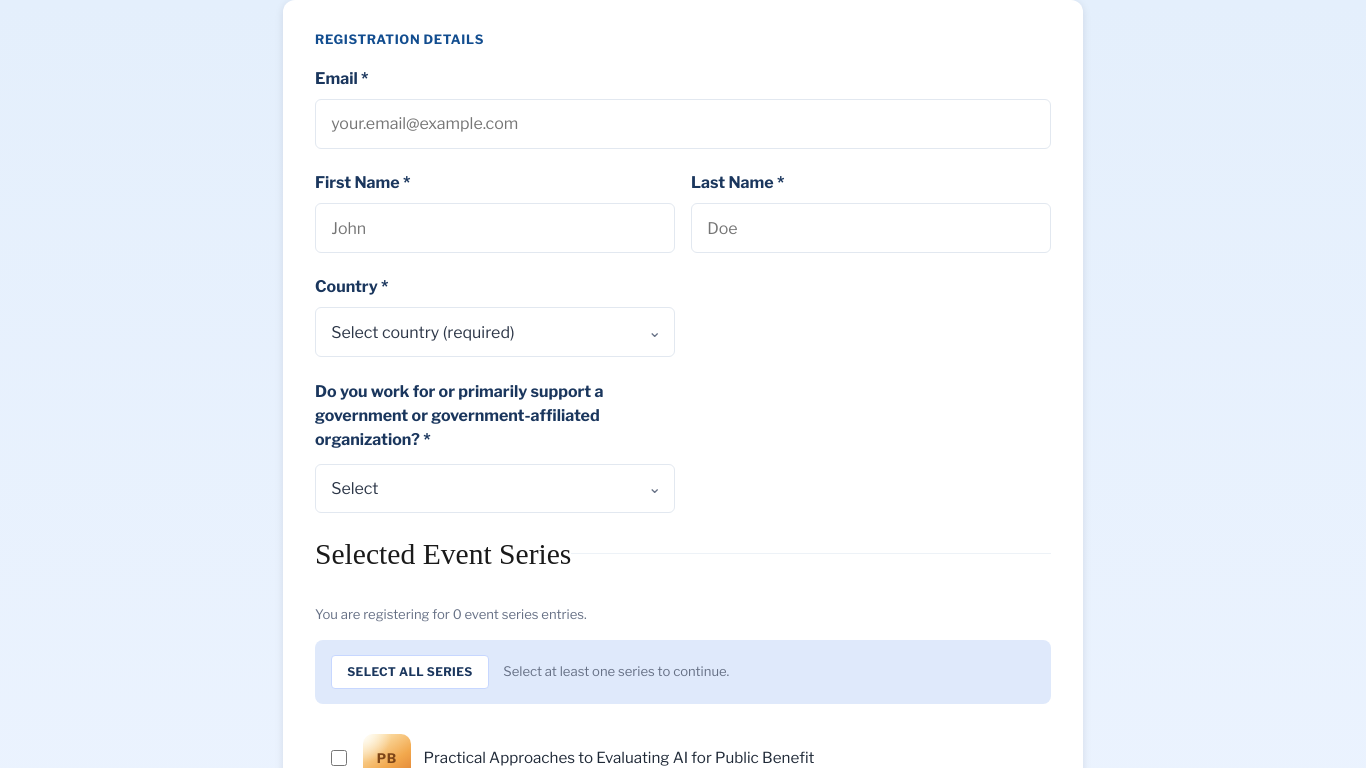
RegistrationForm › prevents submission when no workshop series is selected
This screenshot has width=1366, height=768.
In the field with id "email": [683, 124] box [315,99,1051,149], type "ada@example.com"
In the field with id "first_name": [495, 228] box [315,203,675,253], type "Ada"
In the field with id "last_name": [871, 228] box [691,203,1051,253], type "Lovelace"
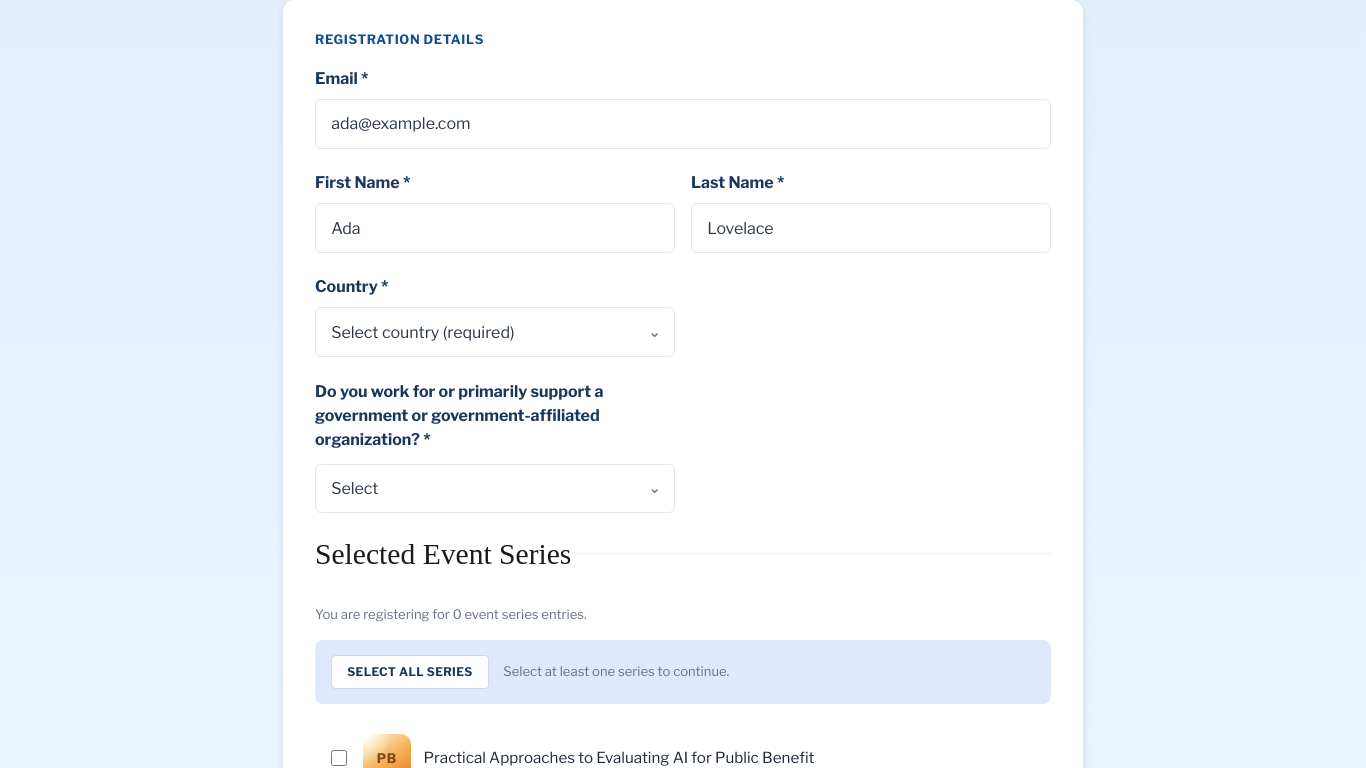
Select "United States" in the dropdown with id "country": [495, 332] box [315,307,675,357]
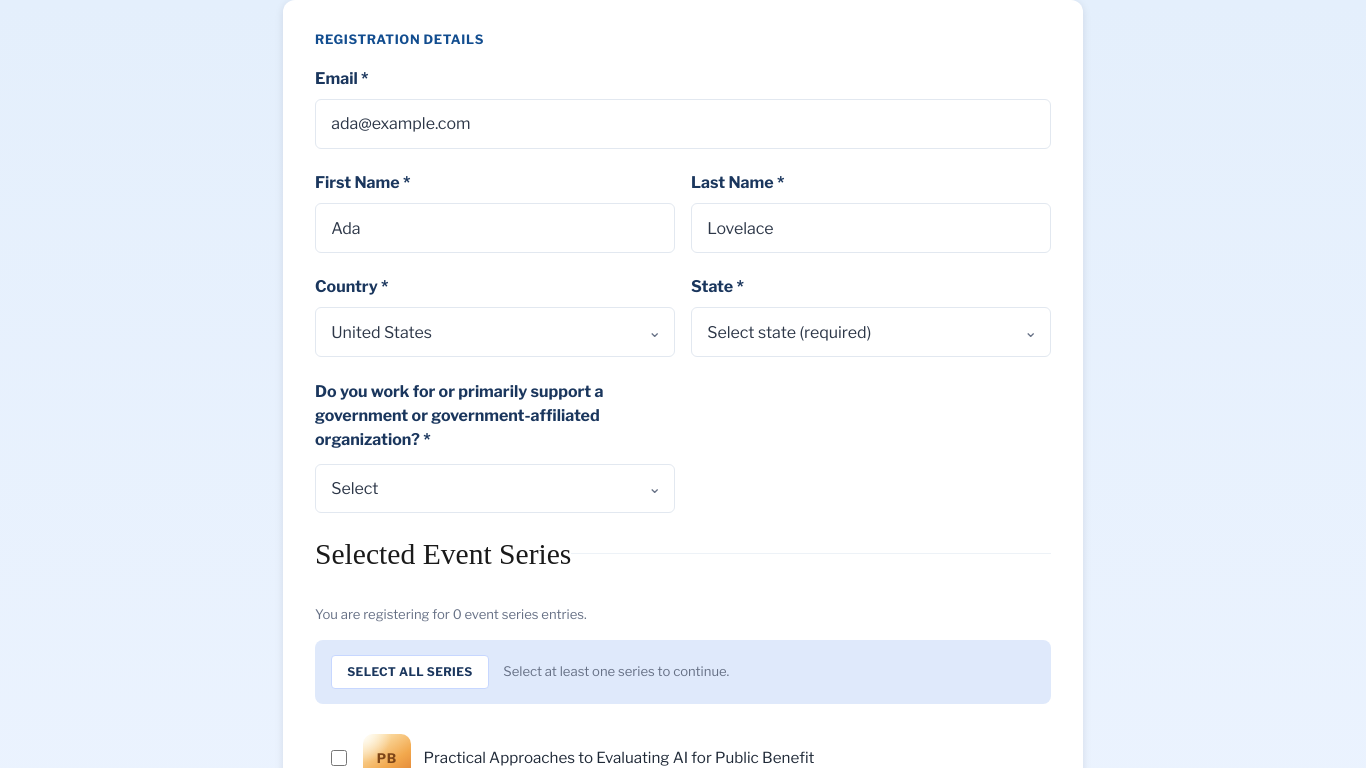
Select "IL" in the dropdown with id "state": [871, 332] box [691,307,1051,357]
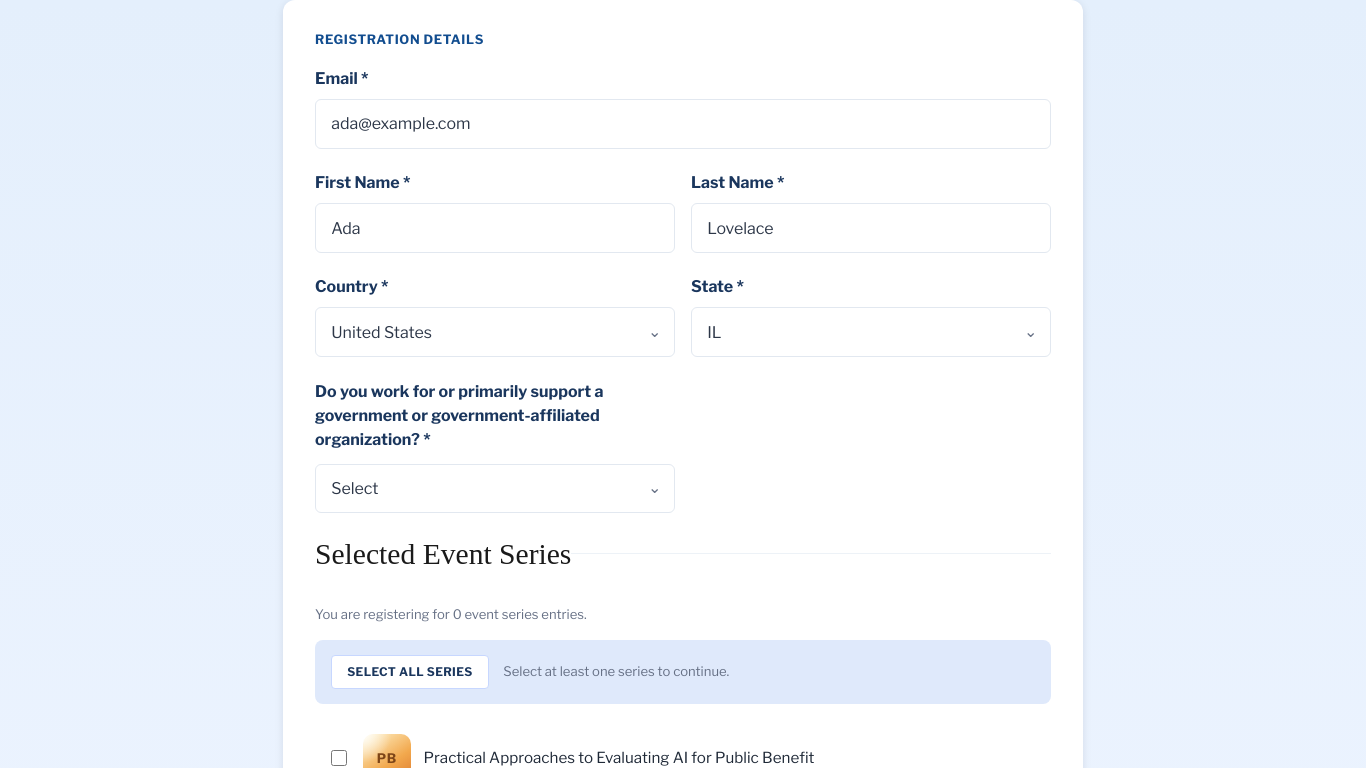
Select "Yes, I'm an employee of a government agency" in the dropdown with id "gov_org": [495, 488] box [315,464,675,513]
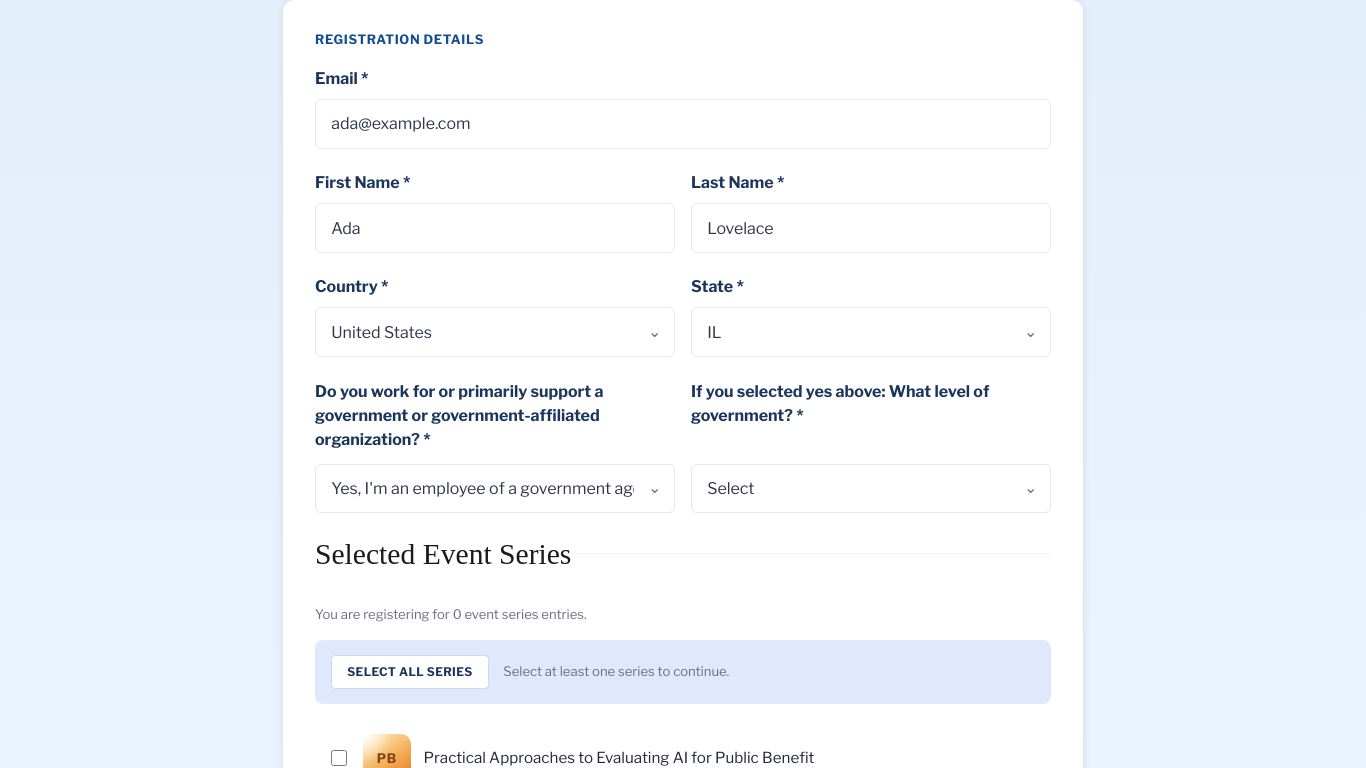
Select "International or Intergovernmental Organization (e.g. UN, OECD, EU)" in the dropdown with id "gov_level": [871, 488] box [691,464,1051,513]
(page scrolled)
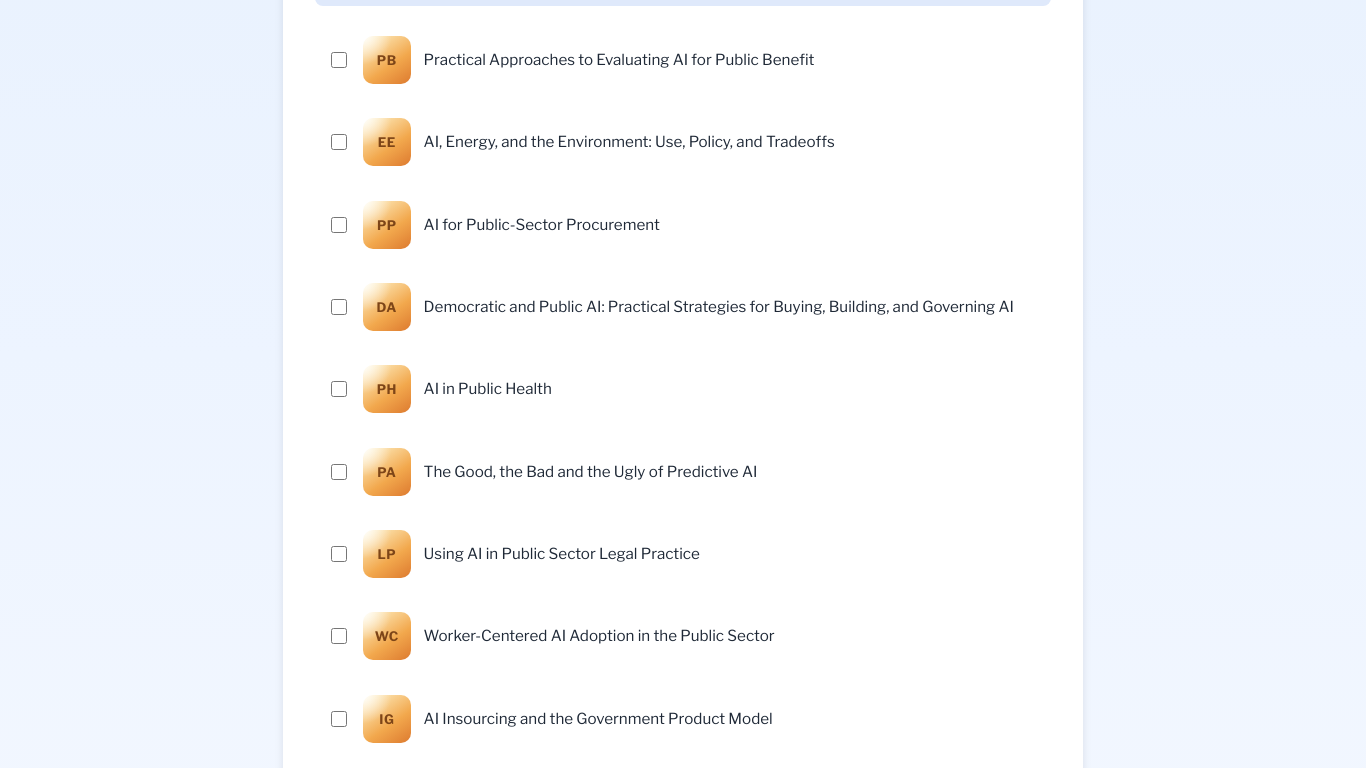
Submit the form
(page scrolled)
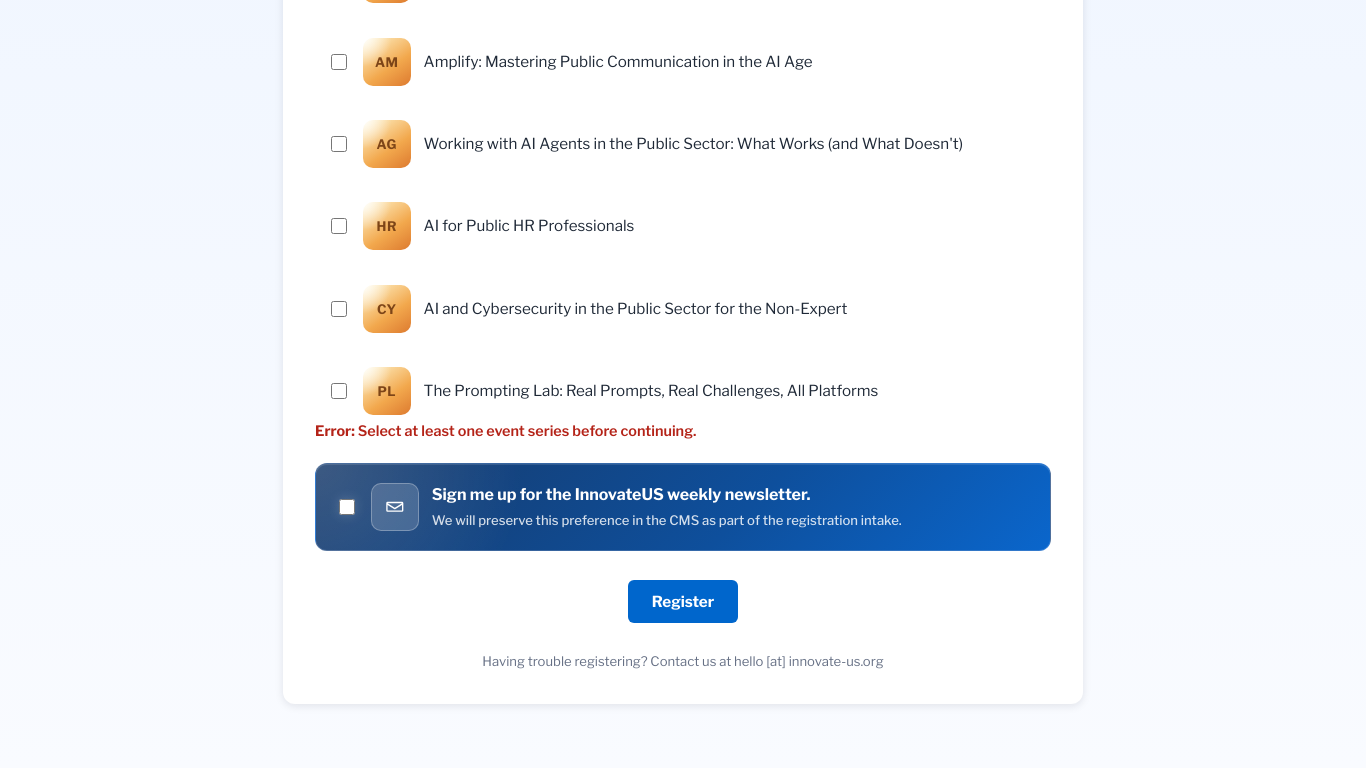
expect the element with id "workshop-series-error" reads "Error: Select at least one event series before continuing.": met, box [315,422,696,440]
